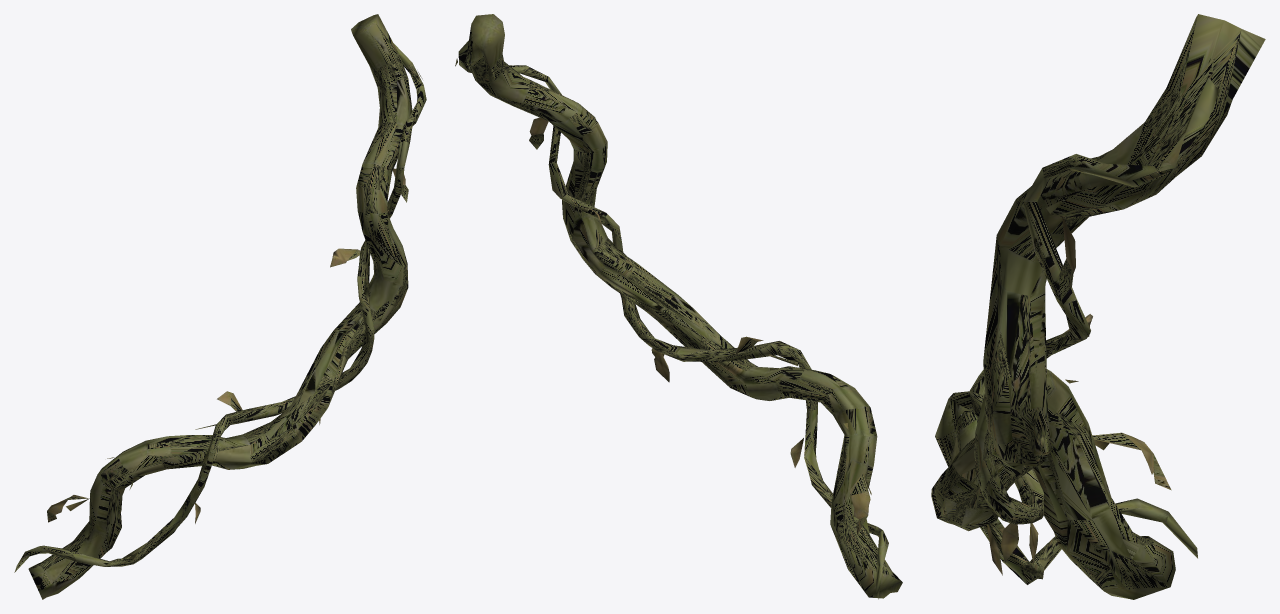
The model's file is vine.glb.
3 renders of one model, left to right at view 1: azimuth 30°, elevation 25°; view 2: azimuth 150°, elevation 25°; view 3: azimuth 270°, elevation 25°, orthographic. The views are drawn at different scales.
Parts seen in each view (by area): view 1: geometry_0; view 2: geometry_0; view 3: geometry_0.
Part boxes in pixels (x1,y1,x2,y2): geometry_0: [14, 14, 426, 599]; geometry_0: [455, 14, 902, 599]; geometry_0: [931, 14, 1265, 599].
Bounding box in the file's own units: 0.835 × 0.9458 × 0.3145.
Materials: 1 (1 with a texture image).
